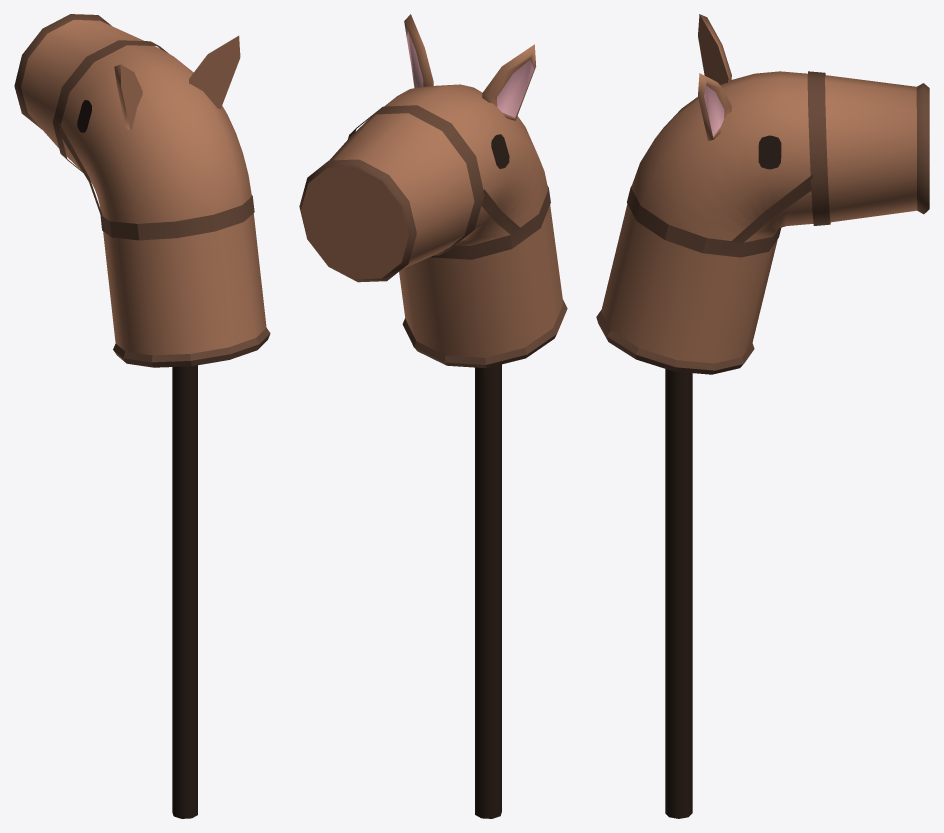
File: player01-item01.fbx
3 views of the same model, side by side, from view 1: azimuth 30°, elevation 25°; view 2: azimuth 150°, elevation 25°; view 3: azimuth 270°, elevation 25° (orthographic). The views are drawn at different scales.
Parts seen in each view (by area): view 1: player01-item01; view 2: player01-item01; view 3: player01-item01.
Part boxes in pixels (<box>): player01-item01: <box>14,14,270,818</box>; player01-item01: <box>299,14,567,818</box>; player01-item01: <box>596,14,929,818</box>.
Bounding box in the file's own units: 13.58 × 71.3 × 27.9.
Materials: 4 (3 with a texture image).
